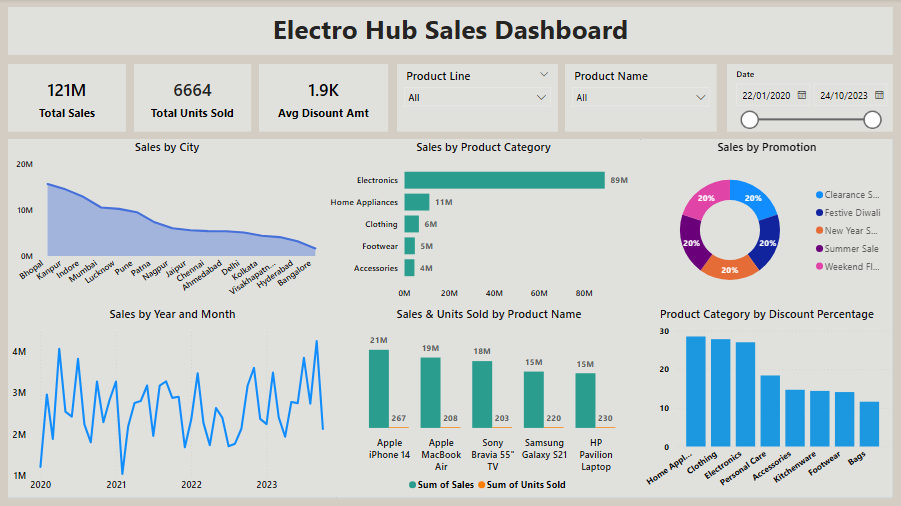

This screenshot's page, from the dashboard's own definition file:
{"tool":"powerbi","page":{"name":"Dashboard","canvas":[1280,720],"ordinal":0},"visuals":[{"type":"shape","box":[12.8,198.4,1254.3,508.8],"z":0},{"type":"lineChart","title":"Sales by Year and Month","fields":{"Y":["Sum(Electro hub data.Sales)"],"Category":["Electro hub data.Date (dd/mm/yyyy).Variation.Date Hierarchy.Year","Electro hub data.Date (dd/mm/yyyy).Variation.Date Hierarchy.Quarter","Electro hub data.Date (dd/mm/yyyy).Variation.Date Hierarchy.Month"]},"box":[12.8,435.1,466.3,272.1],"z":1000},{"type":"card","fields":{"Values":["Measures (2).Total Sales"]},"box":[13,92.2,167,96.5],"z":2000},{"type":"card","fields":{"Values":["Measures (2).Total Units Sold"]},"box":[191.5,92.2,165.6,96.5],"z":3000},{"type":"clusteredColumnChart","title":" Sales  & Units Sold by Product Name","fields":{"Category":["Dim Product.Product Name"],"Y":["Sum(Electro hub data.Sales)","Sum(Electro hub data.Units Sold)"]},"box":[479.1,435.1,430.9,272.1],"z":4000},{"type":"areaChart","title":" Sales by City","fields":{"Category":["Dim Customers.City"],"Y":["Sum(Electro hub data.Sales)"]},"box":[12.8,198.4,450.7,236.7],"z":5000},{"type":"card","fields":{"Values":["Measures (2).Avg Disount Amt"]},"box":[368.5,92.1,182.8,96.4],"z":6000},{"type":"barChart","title":"Sales by Product Category","fields":{"Category":["Dim Product.Product Line"],"Y":["Sum(Electro hub data.Sales)"]},"box":[463.5,198.4,446.5,236.7],"z":7000},{"type":"textbox","box":[12.8,11.3,1254.3,68],"z":8000},{"type":"slicer","fields":{"Values":["Dim Product.Product Line"]},"box":[564.5,92.2,227.5,96.5],"z":9000},{"type":"slicer","fields":{"Values":["Dim Product.Product Name"]},"box":[802.2,92.1,215.4,96.4],"z":10000},{"type":"slicer","fields":{"Values":["Electro hub data.Date (dd/mm/yyyy).Variation.Date Hierarchy.Year"]},"box":[1031.8,92.1,235.3,96.4],"z":11000},{"type":"clusteredColumnChart","title":" Product Category by Discount Percentage","fields":{"Y":["Sum(Electro hub data.Discount Category)"],"Category":["Dim Product.Product Line"]},"box":[909.9,435.1,357.2,272.1],"z":12000},{"type":"donutChart","title":" Sales by Promotion ","fields":{"Category":["Dim Promotion.Promotion Name"],"Y":["Sum(Electro hub data.Sales)"]},"box":[909.9,198.4,357.2,236.7],"z":13000}]}

Visuals, with their boxes in screenshot pixels (x1, y1, x2, y2), scaled from the page's 1280x720 canvas onto the 901x506 screenshot:
shape: rect(9, 139, 892, 497)
"Sales by Year and Month" lineChart: rect(9, 306, 337, 497)
card - Measures (2).Total Sales: rect(9, 65, 127, 133)
card - Measures (2).Total Units Sold: rect(135, 65, 251, 133)
" Sales  & Units Sold by Product Name" clusteredColumnChart: rect(337, 306, 641, 497)
" Sales by City" areaChart: rect(9, 139, 326, 306)
card - Measures (2).Avg Disount Amt: rect(259, 65, 388, 132)
"Sales by Product Category" barChart: rect(326, 139, 641, 306)
textbox: rect(9, 8, 892, 56)
slicer - Dim Product.Product Line: rect(397, 65, 557, 133)
slicer - Dim Product.Product Name: rect(565, 65, 716, 132)
slicer - Electro hub data.Date (dd/mm/yyyy).Variation.Date Hierarchy.Year: rect(726, 65, 892, 132)
" Product Category by Discount Percentage" clusteredColumnChart: rect(640, 306, 892, 497)
" Sales by Promotion " donutChart: rect(640, 139, 892, 306)
